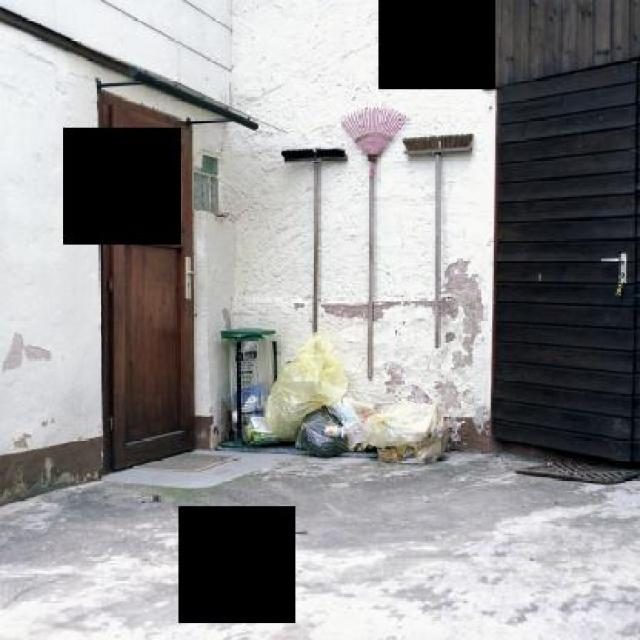plastic bag: (263, 332, 351, 440), (228, 334, 274, 435), (357, 389, 437, 442), (372, 425, 452, 469), (291, 406, 349, 460), (326, 377, 371, 434)
